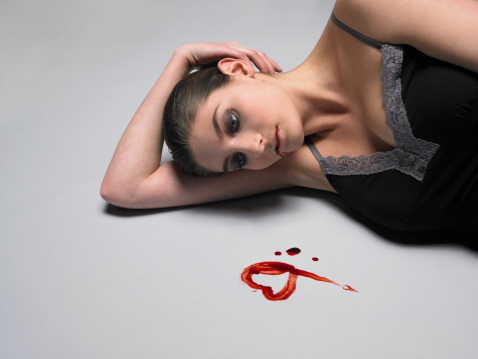deitado: (121, 47, 477, 280)
